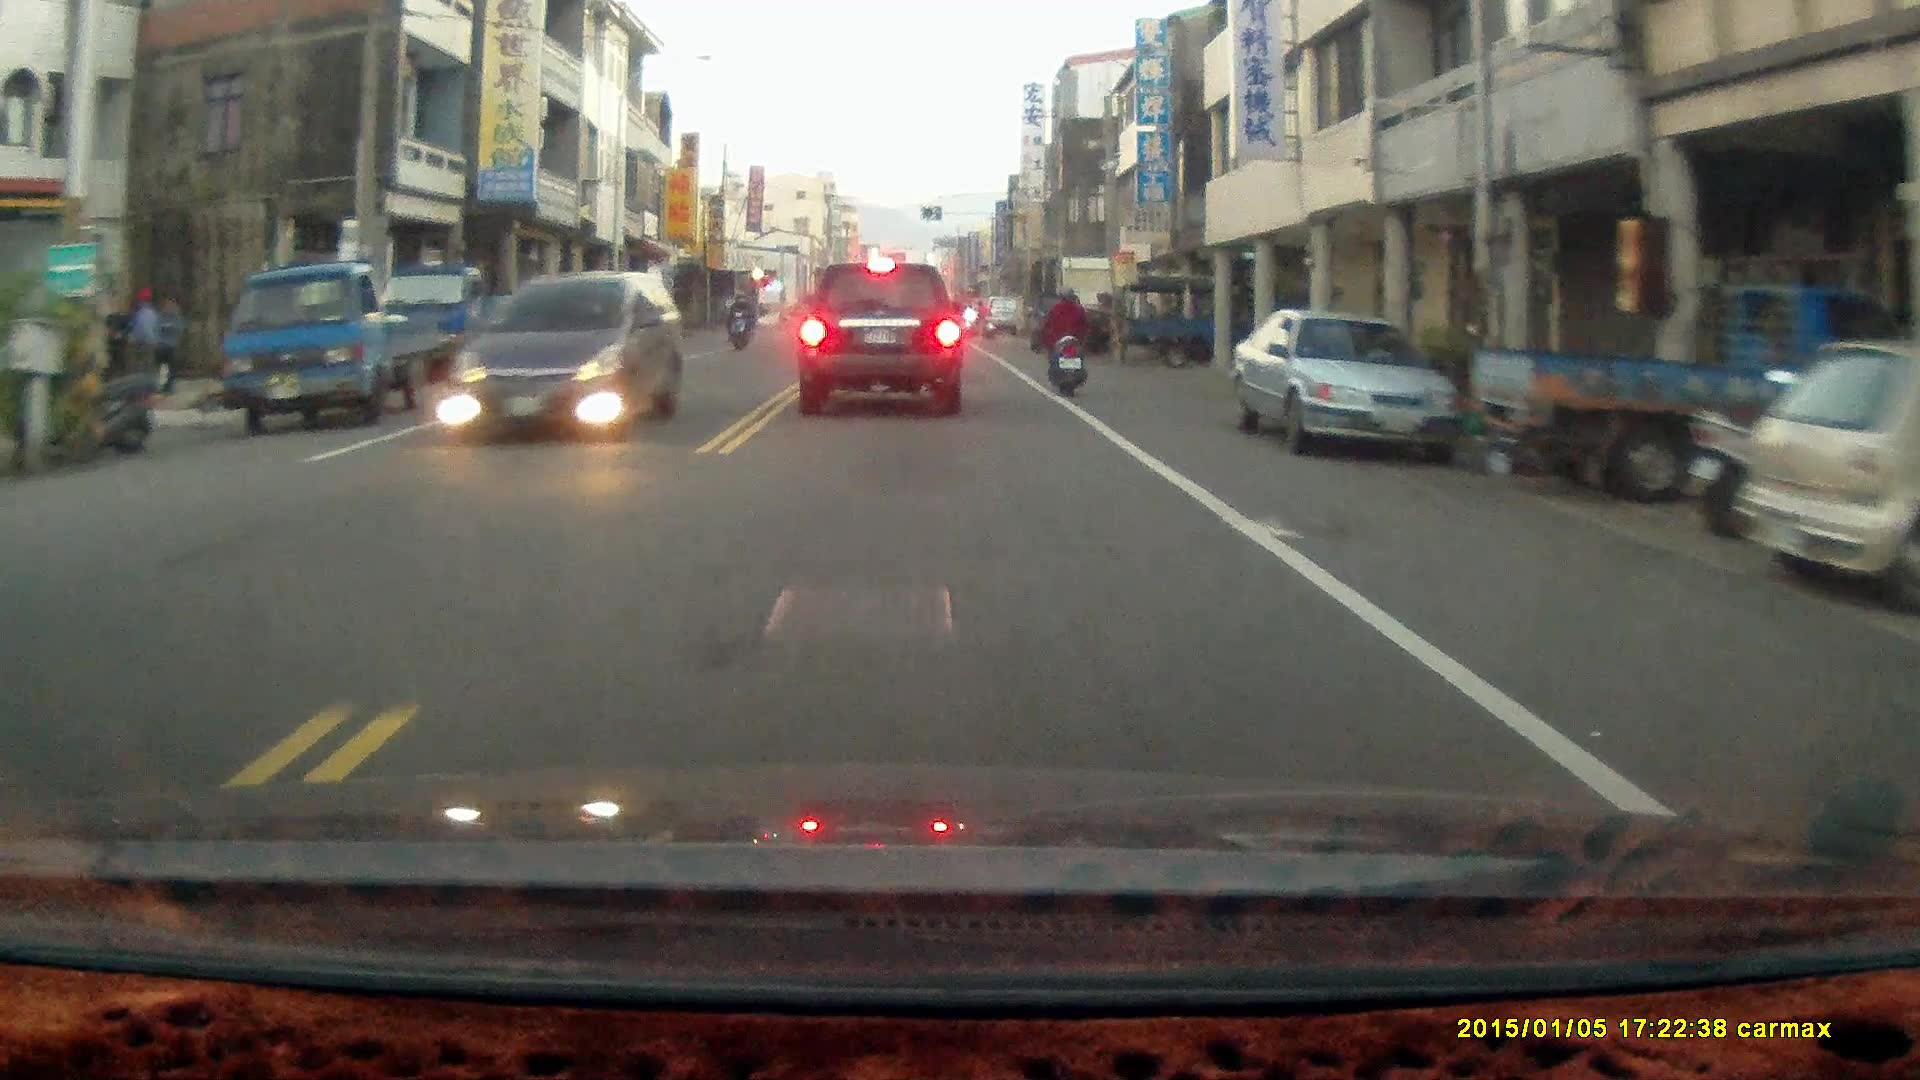pedestrian: (127, 287, 159, 400), (155, 291, 186, 396), (100, 295, 131, 390)
rider: (1041, 282, 1088, 396), (724, 294, 753, 352), (963, 298, 997, 341)
vehicle: (1461, 275, 1859, 503), (1728, 334, 1920, 604), (218, 261, 452, 435), (453, 272, 685, 443), (1231, 312, 1461, 458), (794, 259, 966, 424), (380, 252, 539, 372), (1122, 274, 1301, 367)
